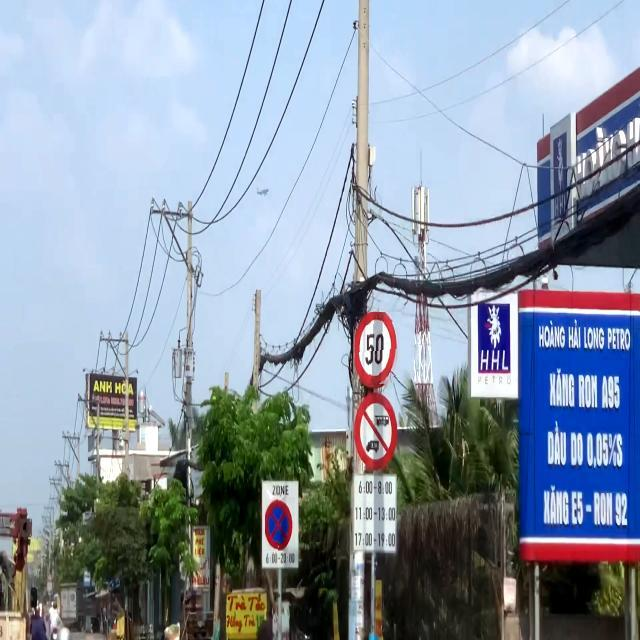P-127: (355, 312, 401, 387)
P-130: (266, 497, 296, 551)
